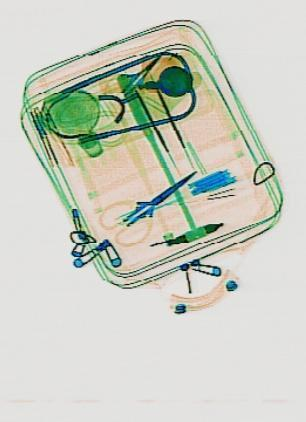Knife: (117, 158, 200, 235)
